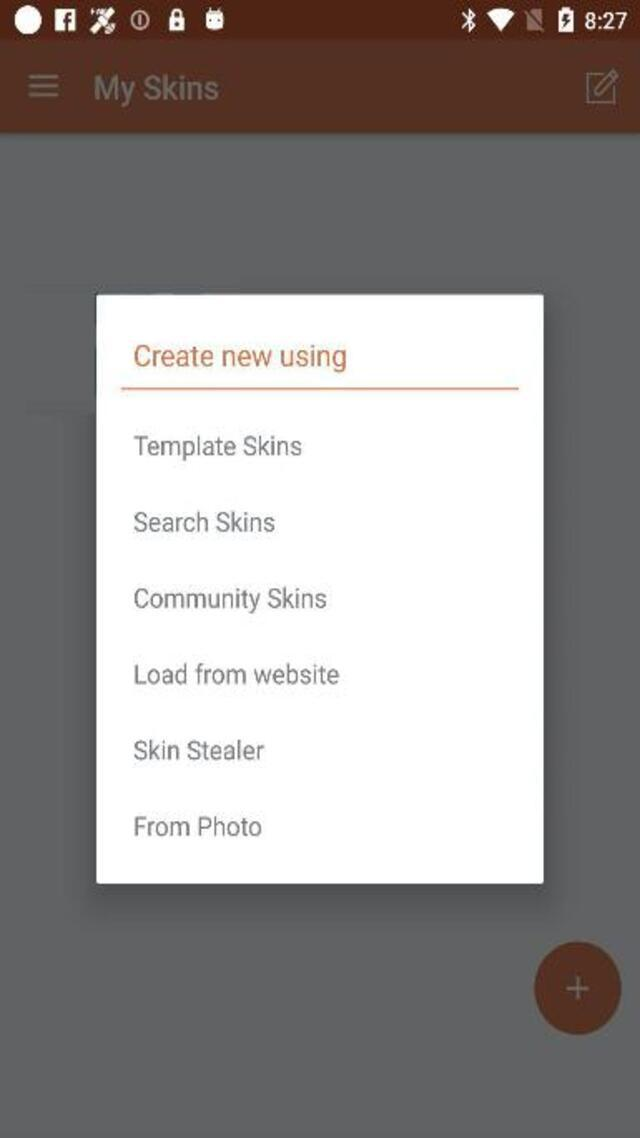Icon: (534, 940, 622, 1034), (586, 68, 618, 104), (28, 74, 58, 97)
Text: (134, 343, 345, 372), (136, 586, 327, 612), (134, 434, 302, 462), (94, 73, 219, 108), (136, 664, 340, 684), (134, 510, 275, 532), (134, 740, 265, 761), (134, 815, 262, 836)
